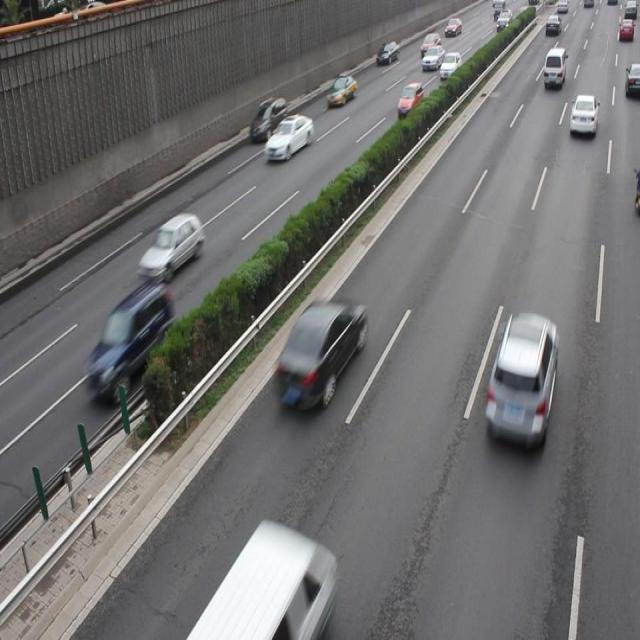car: (272, 295, 366, 415), (85, 280, 174, 405), (483, 312, 558, 449), (139, 210, 202, 282), (264, 114, 313, 161), (249, 95, 286, 141), (324, 70, 356, 108), (567, 94, 596, 135), (395, 81, 424, 119)
truck: (198, 521, 333, 640)
